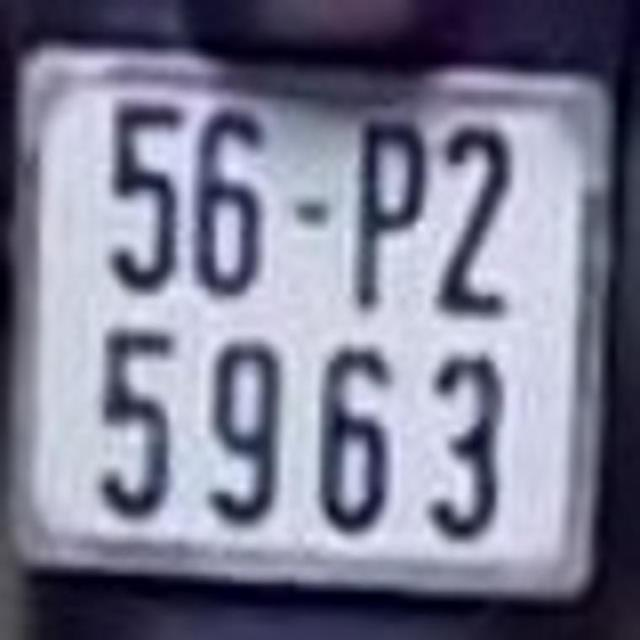2: (436, 108, 518, 321)
3: (423, 338, 508, 542)
5: (98, 320, 178, 520), (105, 94, 184, 294)
6: (315, 329, 397, 534), (190, 93, 270, 300)
9: (203, 320, 285, 527)
P: (344, 106, 428, 314)
